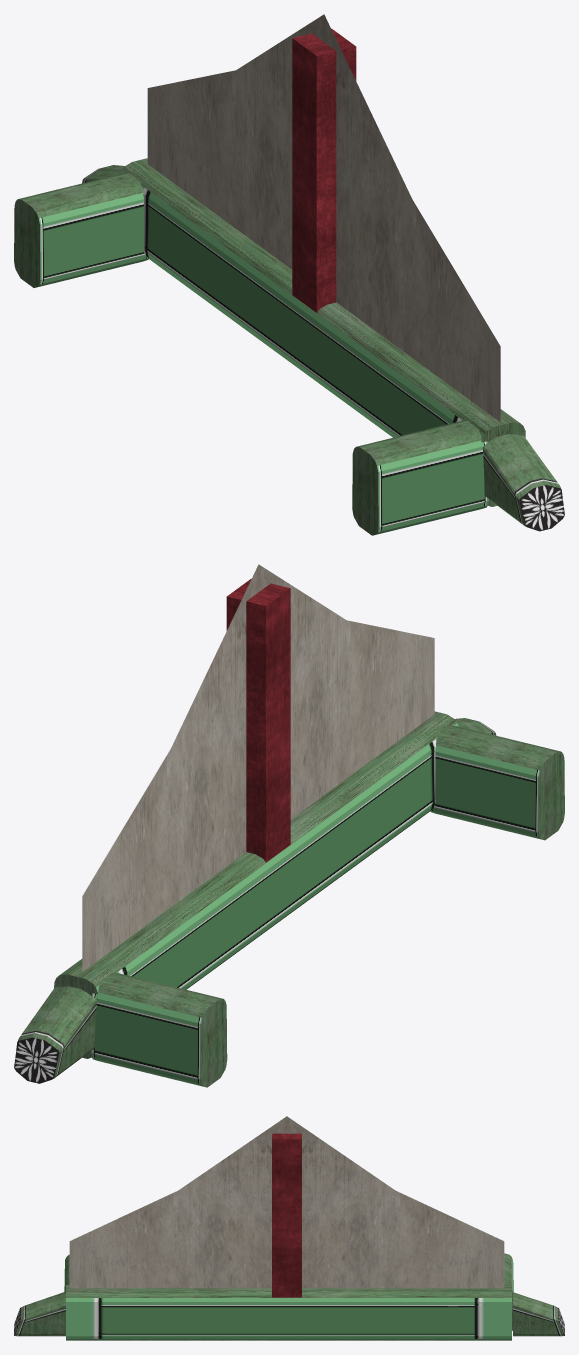
The model's file is SM_R_MiddleBeam_6.fbx.
3 renders of one model, top to bottom at view 1: azimuth 30°, elevation 25°; view 2: azimuth 150°, elevation 25°; view 3: azimuth 270°, elevation 25°, orthographic. The views are drawn at different scales.
Parts seen in each view (by area): view 1: SM_R_MiddleBeam_6; view 2: SM_R_MiddleBeam_6; view 3: SM_R_MiddleBeam_6.
Boxes of the visible parts, x1,y1,x2,y2 form: SM_R_MiddleBeam_6: (14, 14, 564, 535); SM_R_MiddleBeam_6: (14, 564, 564, 1087); SM_R_MiddleBeam_6: (14, 1116, 564, 1340).
Size of the model in its own units: 68.56 by 356 by 160.
Materials: 4 (4 with a texture image).
